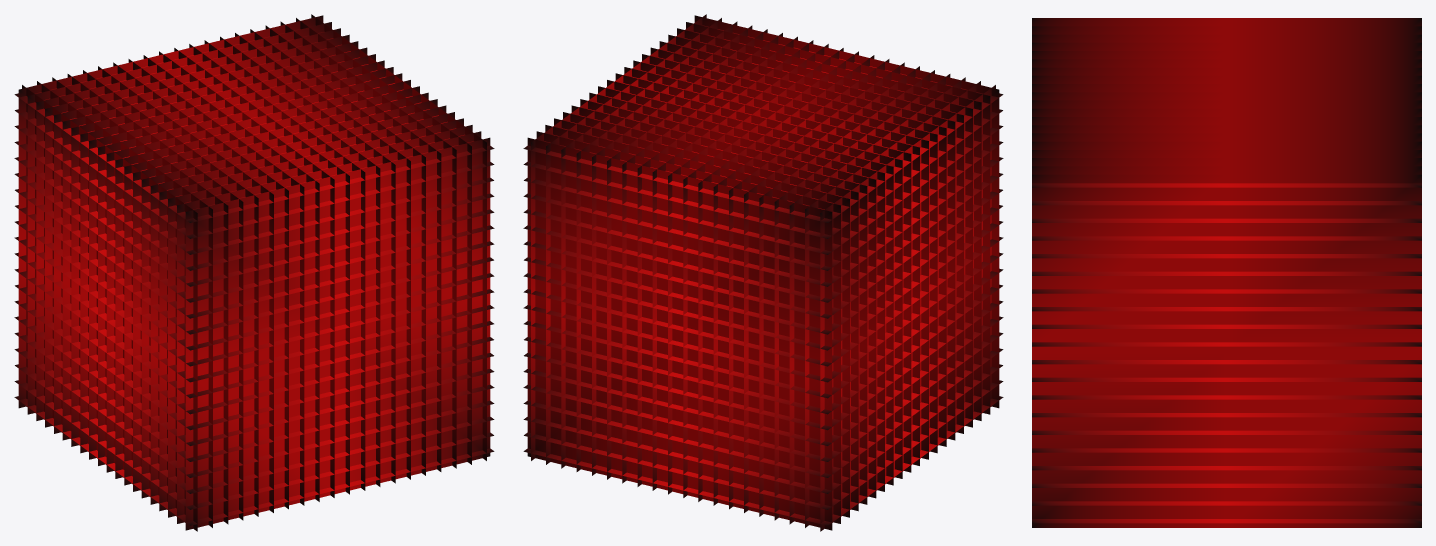
Rendered from Cloud.fbx.
3 renders of one model, left to right at view 1: azimuth 30°, elevation 25°; view 2: azimuth 150°, elevation 25°; view 3: azimuth 270°, elevation 25°, orthographic. The views are drawn at different scales.
Parts seen in each view (by area): view 1: Cloud; view 2: Cloud; view 3: Cloud.
Part boxes in pixels (left/top/right/bottom): Cloud: left=14, top=14, right=494, bottom=531; Cloud: left=523, top=14, right=1003, bottom=531; Cloud: left=1032, top=18, right=1421, bottom=527.
Bounding box in the file's own units: 10 × 10 × 10.
